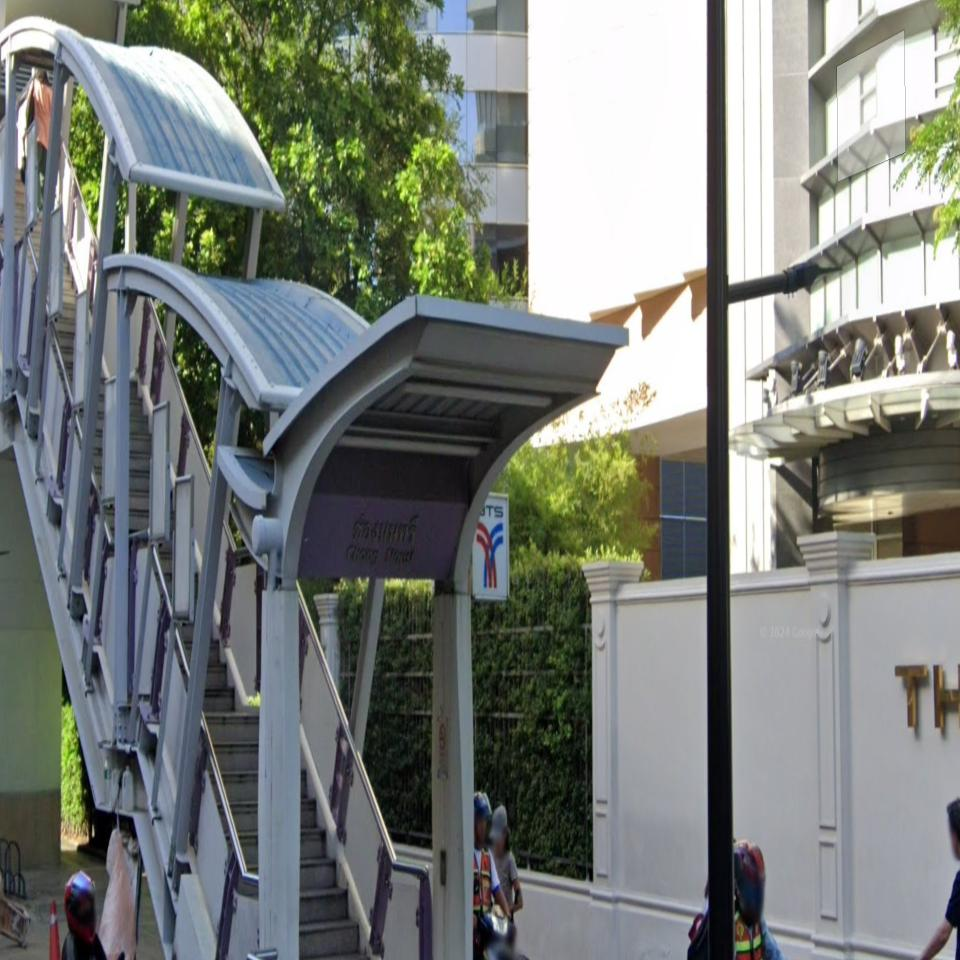signage: (300, 489, 510, 601), (299, 490, 469, 580)
